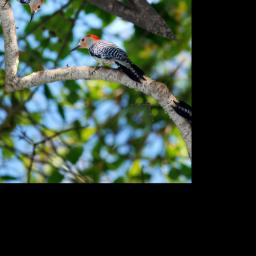Woodpecker: (66, 25, 153, 103)
